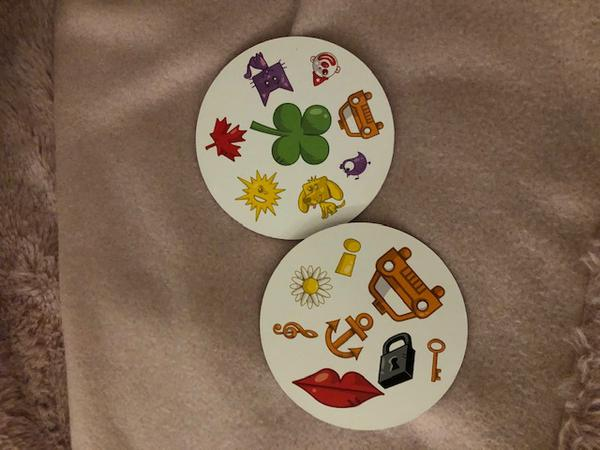ancre: (321, 308, 376, 361)
bouche: (289, 365, 383, 410)
cadenas: (374, 326, 419, 394)
chat: (240, 51, 295, 107)
chien: (291, 171, 348, 224)
cle: (422, 333, 448, 388)
clown: (304, 47, 342, 89)
feuille: (201, 114, 248, 166)
fleur: (285, 262, 335, 313)
note: (270, 317, 319, 342)
oiseau: (336, 147, 372, 181)
point_exclamation: (332, 237, 363, 279)
soleil: (231, 166, 287, 222)
trefle: (249, 99, 335, 168)
voiture: (365, 245, 444, 325), (334, 87, 384, 141)
